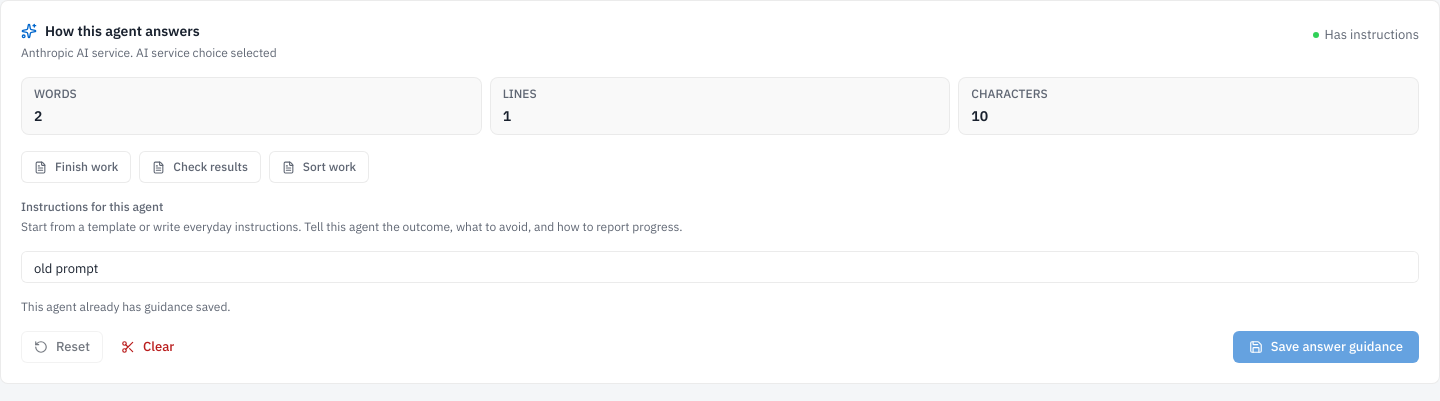
Test: AgentConfigTab › uses plain-language finish-work template instructions
Click the button "Finish work" at {"x": 76, "y": 167}, box [21,151,131,183]
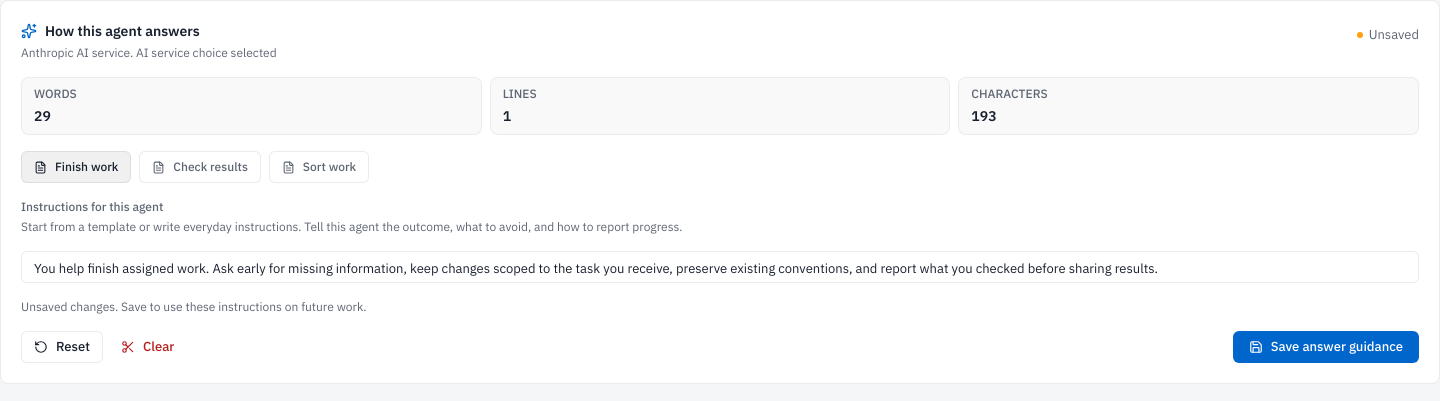
Expected: the text box labelled "Instructions for this agent" holds "You help finish assigned work. Ask early for missing information, keep changes scoped to the task you receive, preserve existing conventions, and report what yo", [21,251,1419,283]
